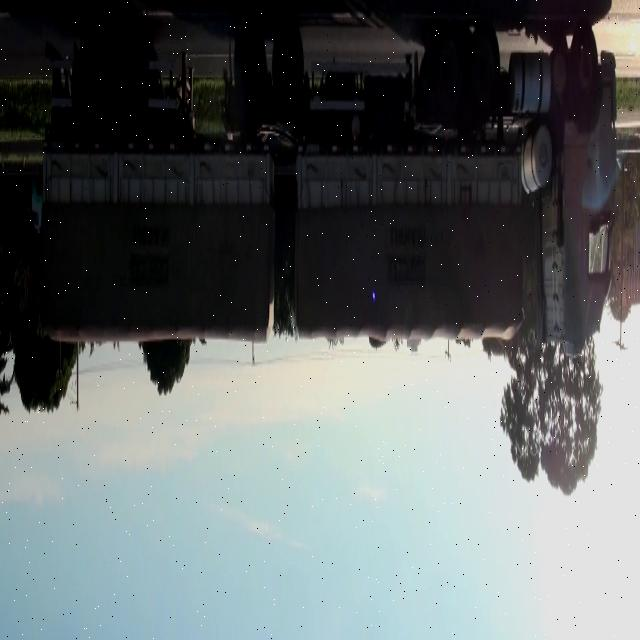-axle: (80, 27, 113, 119), (273, 24, 304, 116), (115, 28, 147, 117), (234, 23, 266, 112), (471, 27, 502, 115), (571, 24, 599, 119), (433, 34, 462, 118)
